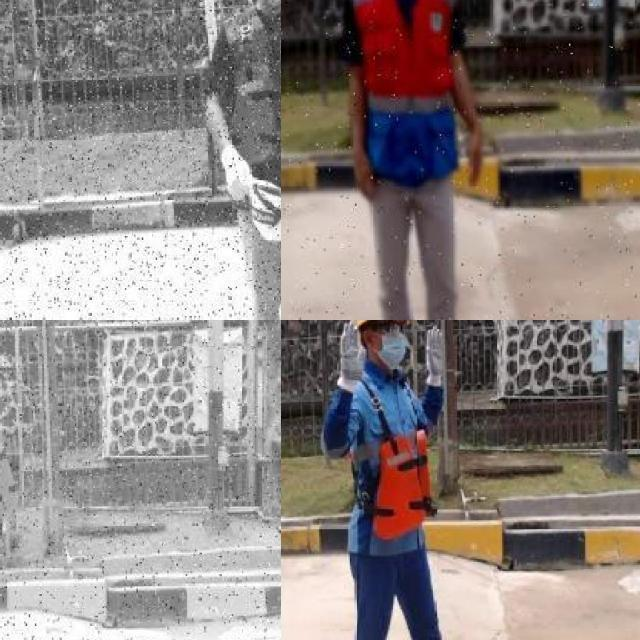apron: (334, 320, 365, 397), (222, 142, 251, 201), (423, 324, 446, 392)
